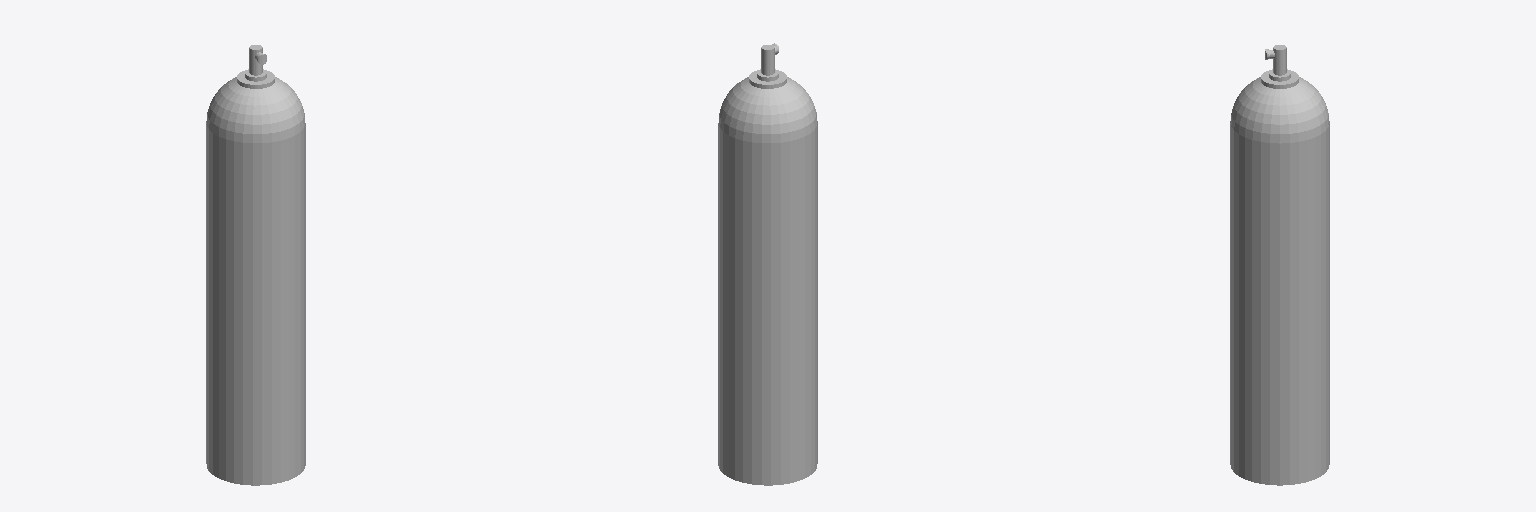
Rendered from ballon.obj.
The picture shows the model from 3 angles: view 1: azimuth 30°, elevation 25°; view 2: azimuth 150°, elevation 25°; view 3: azimuth 270°, elevation 25°; orthographic projection.
Parts seen in each view (by area): view 1: Sphere; view 2: Sphere; view 3: Sphere.
Boxes of the visible parts, box(x1,y1,x2,y2) form: Sphere: box(206, 45, 305, 485); Sphere: box(718, 43, 817, 485); Sphere: box(1230, 45, 1329, 485).
Bounding box in the file's own units: 2 × 9.27 × 2.